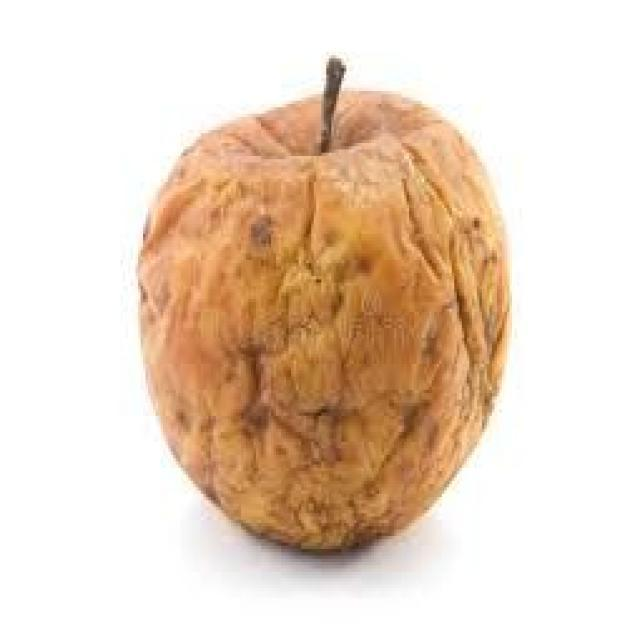Rotten: (143, 93, 492, 540)
